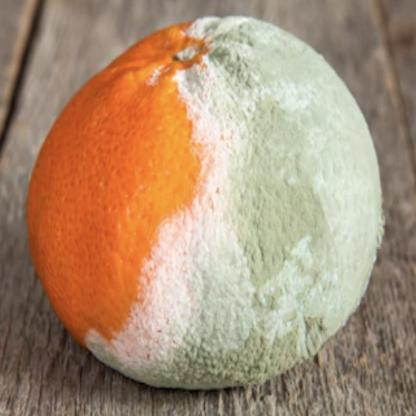rotten: (33, 14, 378, 388)
